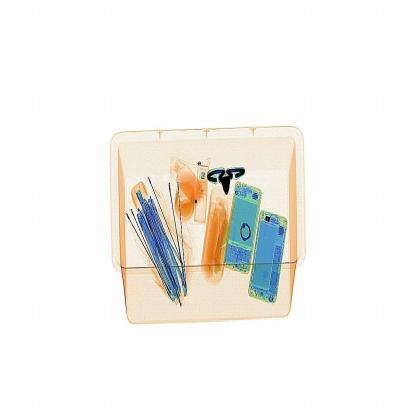gun: (199, 158, 257, 204)
